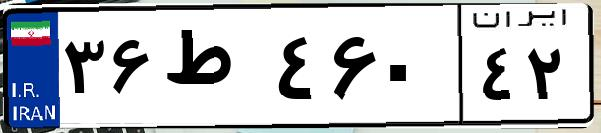0: (385, 28, 445, 110)
2: (525, 38, 570, 115)
3: (57, 26, 110, 100)
4: (270, 28, 330, 110), (475, 38, 525, 113)
6: (330, 28, 385, 110), (110, 28, 158, 98)
ط: (158, 20, 270, 120)
